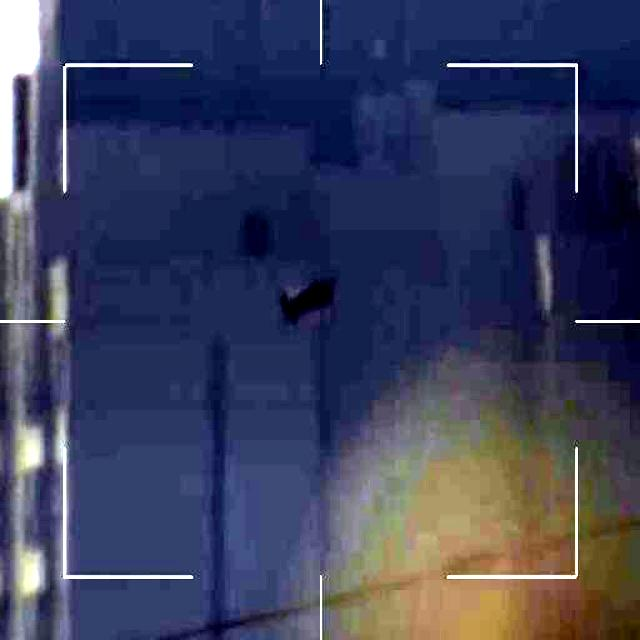bird: (281, 276, 338, 325)
